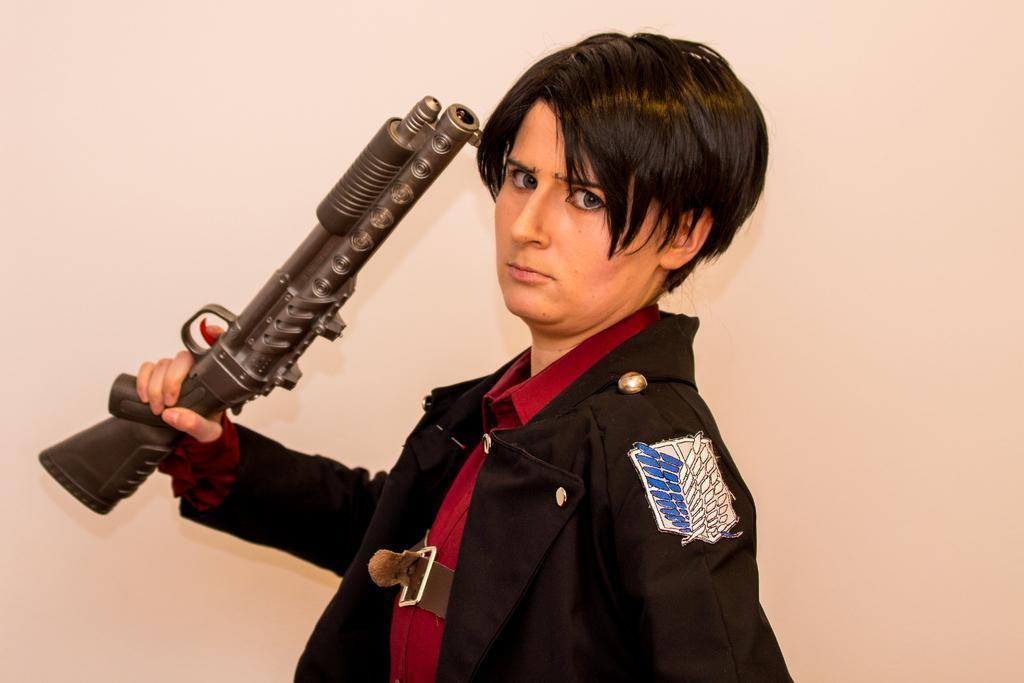Gun: (38, 86, 485, 521)
